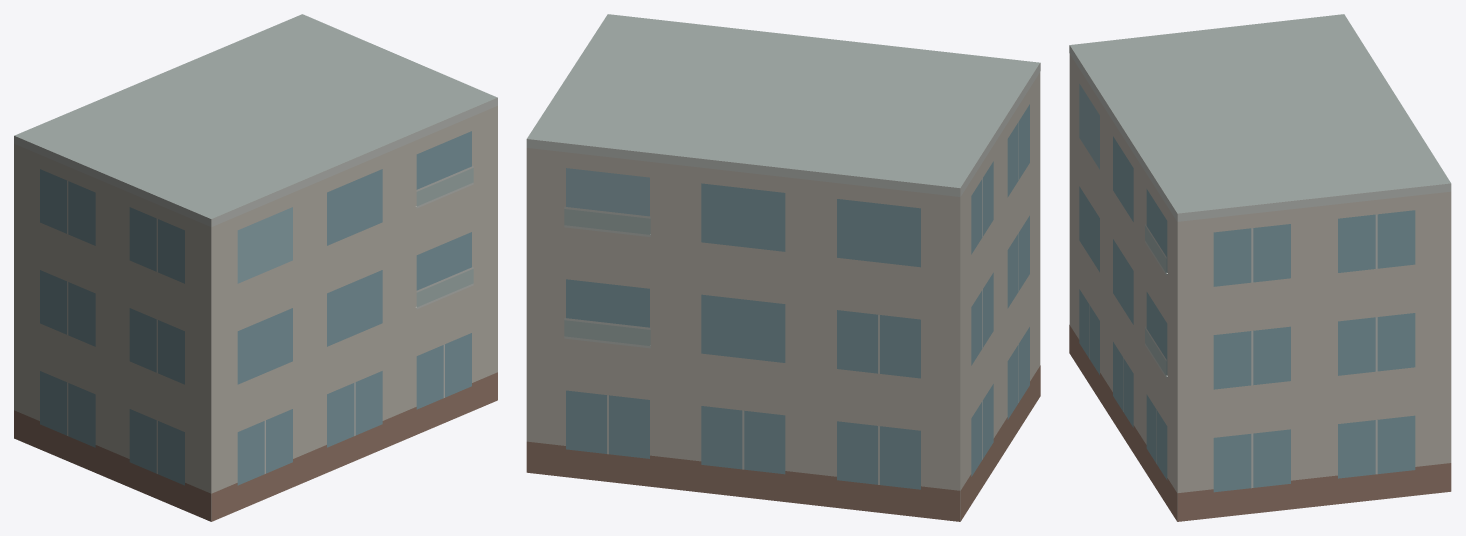
File: survey-upis-32644195.glb
3 views of the same model, side by side, from view 1: azimuth 30°, elevation 25°; view 2: azimuth 150°, elevation 25°; view 3: azimuth 270°, elevation 25° (orthographic). The views are drawn at different scales.
Parts seen in each view (by area): view 1: survey-upis-32644195.tmp; view 2: survey-upis-32644195.tmp; view 3: survey-upis-32644195.tmp.
Part boxes in pixels (left/top/right/bottom): survey-upis-32644195.tmp: left=14, top=14, right=497, bottom=521; survey-upis-32644195.tmp: left=526, top=14, right=1040, bottom=521; survey-upis-32644195.tmp: left=1069, top=14, right=1451, bottom=521.
Size of the model in its own units: 12.72 by 9.15 by 10.28.
